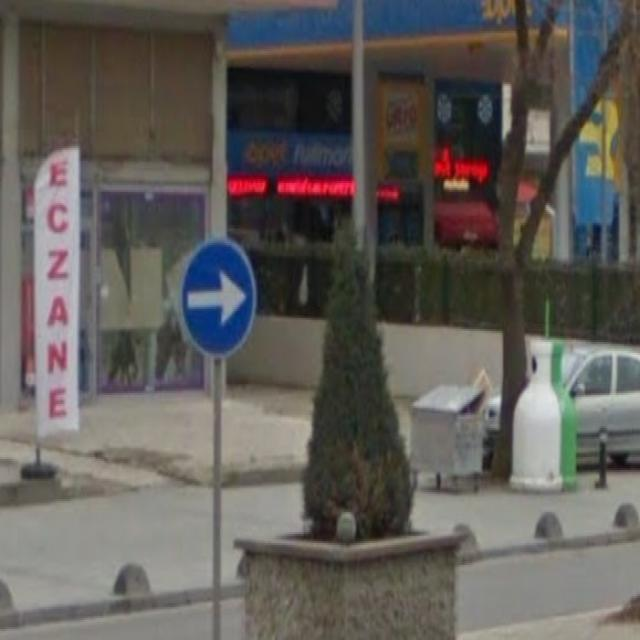Turn Right: (179, 232, 259, 357)
